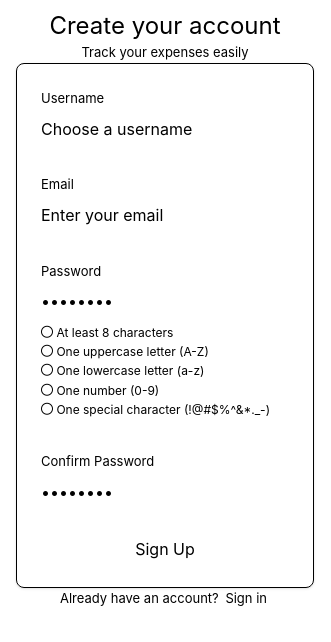
Test: RegisterView › should show error when password is too short on blur
Type "Short1!" into the password field labelled "Password" at [165, 302], box [41,289,289,315]
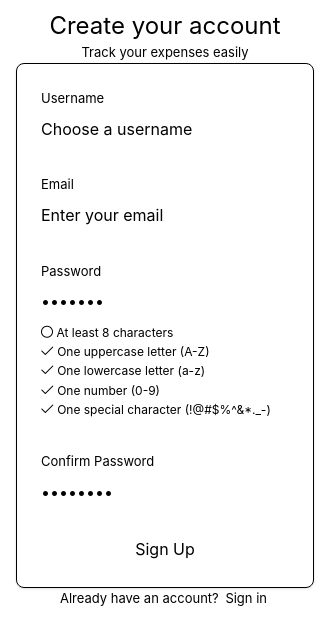
Leave the password field labelled "Password", box [41,289,289,315]
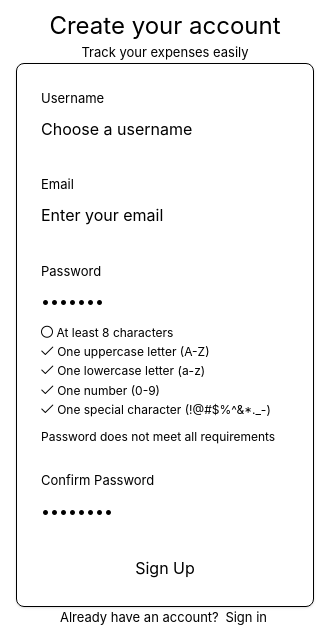
Result: the text "does not meet all requirements" is shown at [41,429,275,444]
